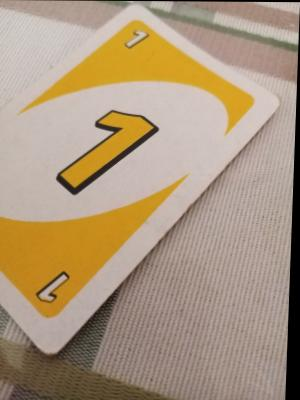num_1: (39, 86, 165, 236)
yellow: (109, 18, 158, 79)
